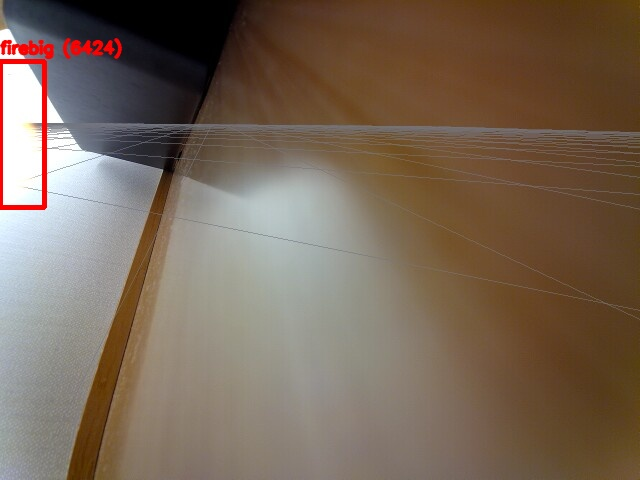firebig: (0, 61, 44, 207)
